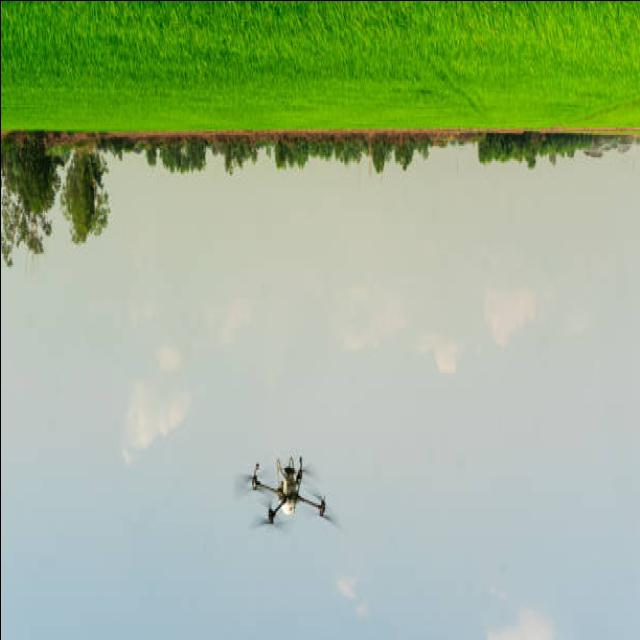drone: (245, 454, 339, 530)
